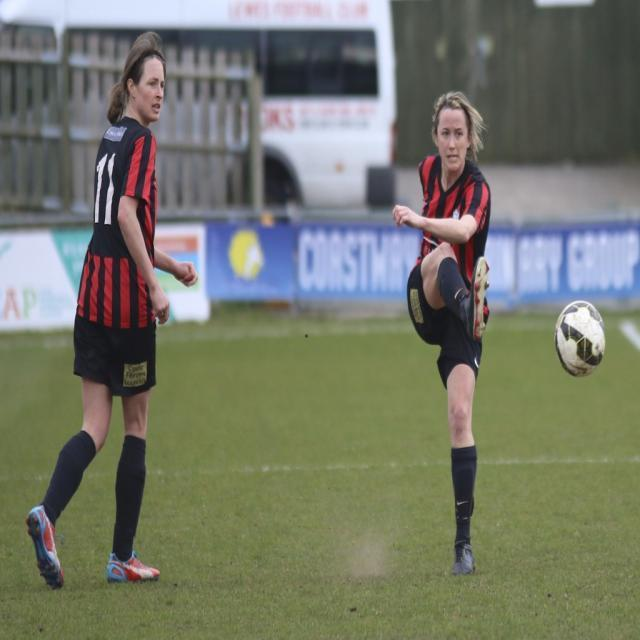football: (549, 296, 620, 382)
